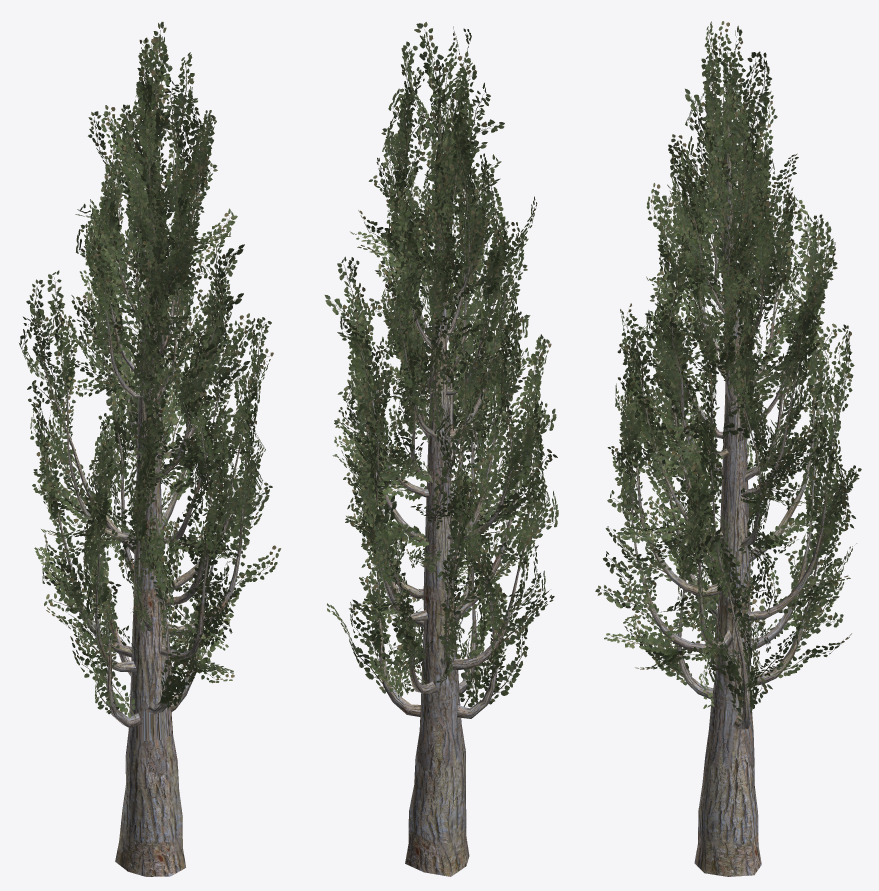
Rendered from SM_Ash02_.fbx.
3 renders of one model, left to right at view 1: azimuth 30°, elevation 25°; view 2: azimuth 150°, elevation 25°; view 3: azimuth 270°, elevation 25°, orthographic.
Visible parts, largest first — view 1: Ash02_LOD1; view 2: Ash02_LOD1; view 3: Ash02_LOD1.
Boxes of the visible parts, x1=… form: Ash02_LOD1: x1=19, y1=22, x2=281, y2=876; Ash02_LOD1: x1=324, y1=22, x2=558, y2=876; Ash02_LOD1: x1=595, y1=21, x2=861, y2=876.
Size of the model in its own units: 751 by 722 by 2568.
